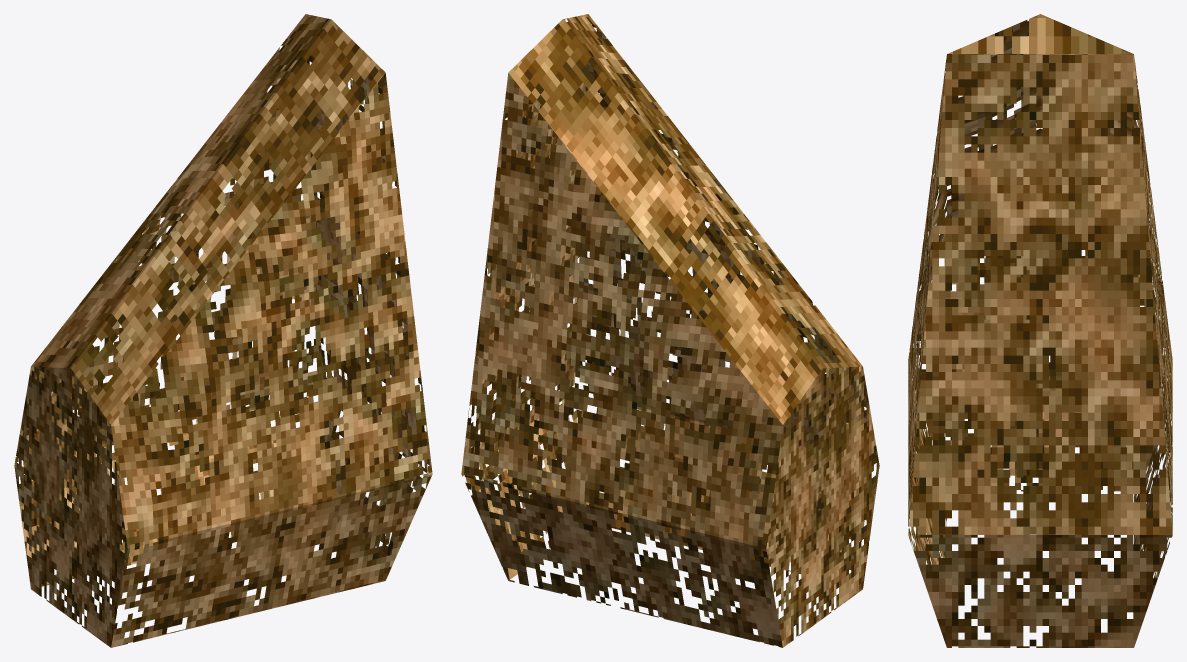
The model's file is bush_connector_high_half_end_autumn.glb.
3 views of the same model, side by side, from view 1: azimuth 30°, elevation 25°; view 2: azimuth 150°, elevation 25°; view 3: azimuth 270°, elevation 25° (orthographic). The views are drawn at different scales.
Parts seen in each view (by area): view 1: bush_connector_high_half_end_autumn; view 2: bush_connector_high_half_end_autumn; view 3: bush_connector_high_half_end_autumn.
Boxes of the visible parts, box(x1,y1,x2,y2) form: bush_connector_high_half_end_autumn: box(14, 14, 432, 647); bush_connector_high_half_end_autumn: box(461, 14, 879, 647); bush_connector_high_half_end_autumn: box(908, 14, 1172, 647).
Bounding box in the file's own units: 1.12 × 1.88 × 0.7191.
1 material, 1 textured.
